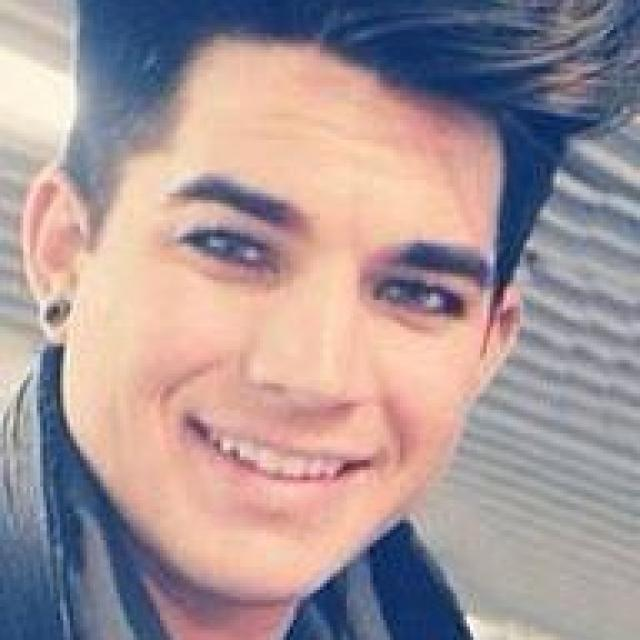Normal: (62, 42, 505, 610)
